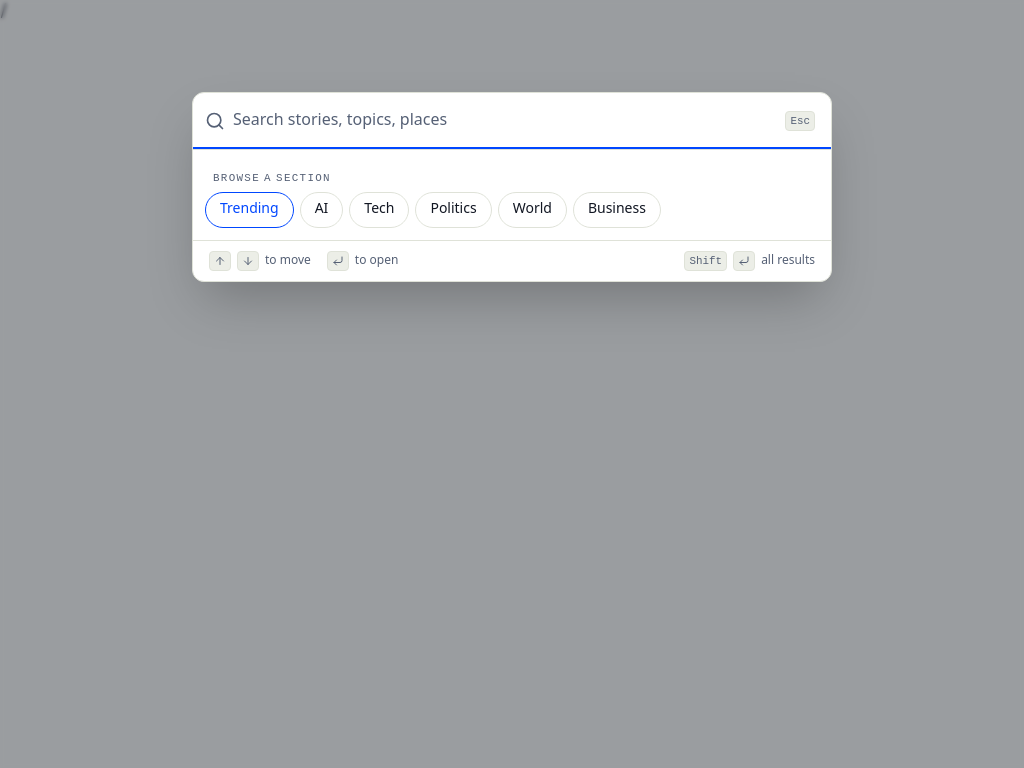
Test: search palette › saves the query as a recent search when a result is opened, and shows recents on an empty query
Type "climate" into the dropdown labelled "Search stories" at [503, 121], box [233,93,773,149]
Wait 250 ms
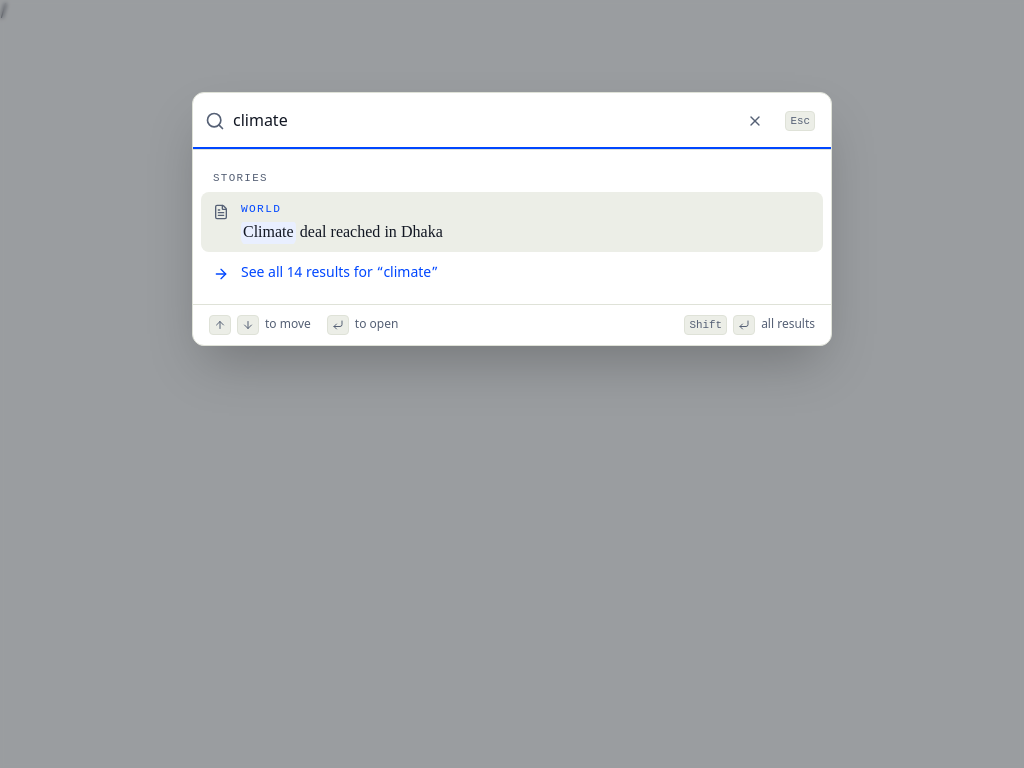
Click the option "World Climate deal reached in Dhaka" at [261, 210], box [201,192,823,252]
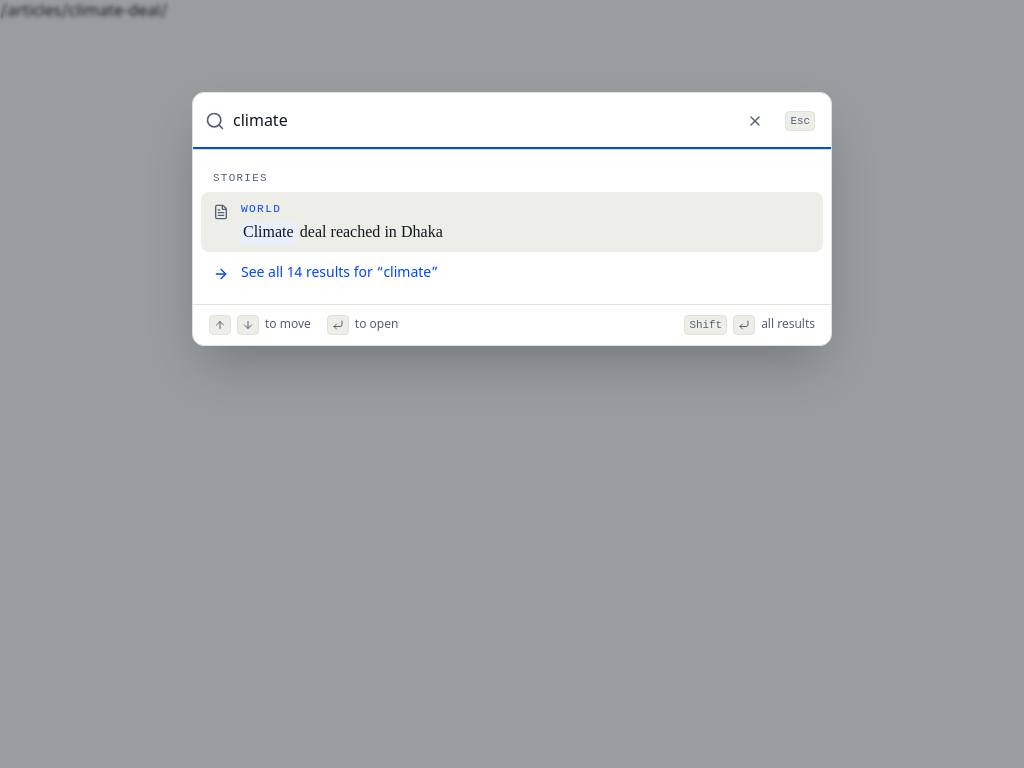
Now the text with test id "where" reads "/articles/climate-deal/", box [0,1,168,23]
Clear the dropdown named "Search stories" at [481, 121], box [233,93,729,149]
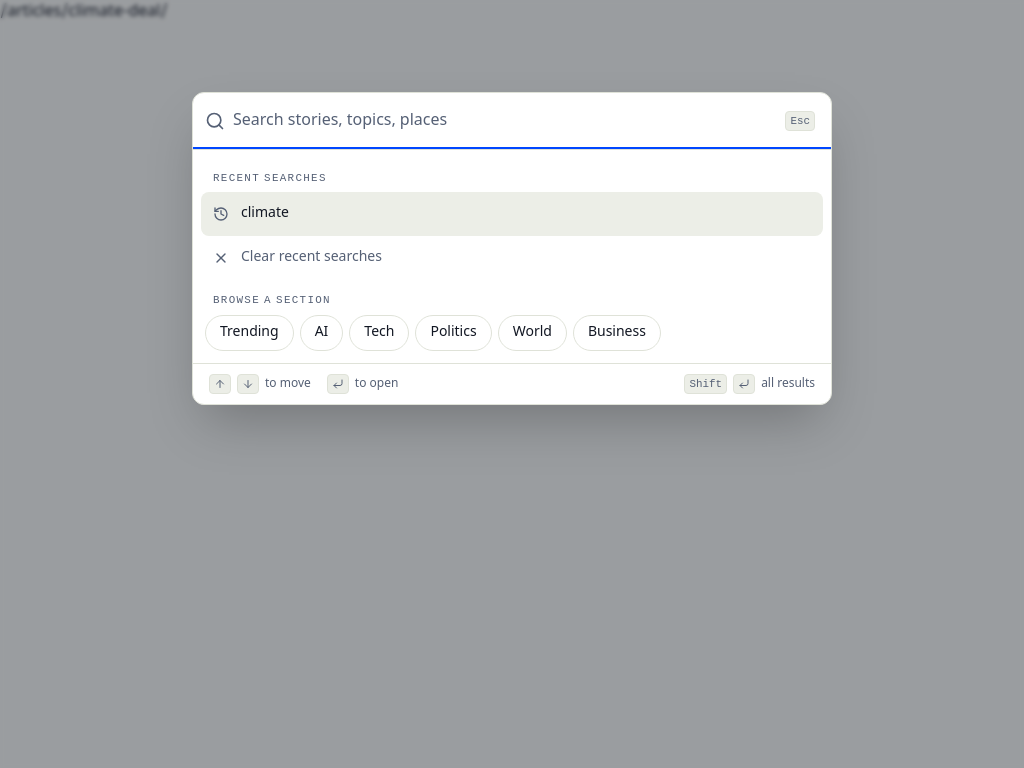
Now the option "climate" is shown, box [201,192,823,236]
Now the option "Clear recent searches" is shown, box [213,248,382,268]
